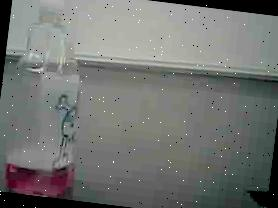hazard: (0, 0, 97, 200)
